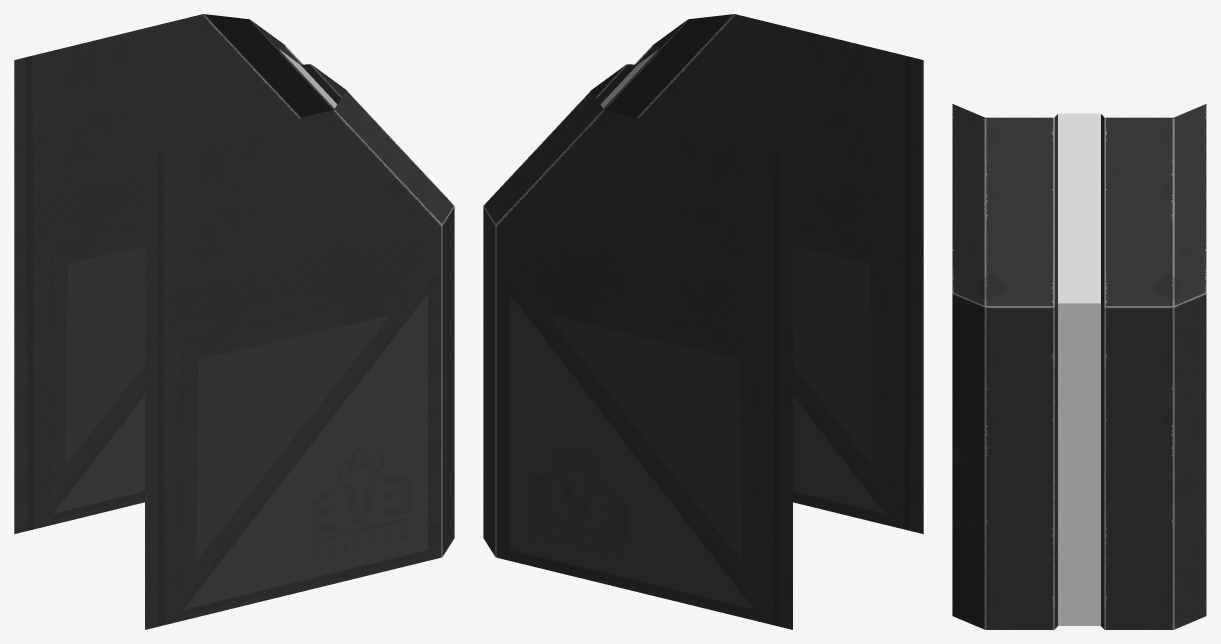
File: Grand_frame_bottom.fbx
The picture shows the model from 3 angles, left to right: view 1: azimuth 30°, elevation 25°; view 2: azimuth 150°, elevation 25°; view 3: azimuth 270°, elevation 25°; orthographic projection. The views are drawn at different scales.
Parts seen in each view (by area): view 1: Grand_frame_bottom007; view 2: Grand_frame_bottom007; view 3: Grand_frame_bottom007, light.
Part boxes in pixels (x1,y1,x2,y2): Grand_frame_bottom007: [14, 14, 454, 629]; Grand_frame_bottom007: [483, 14, 923, 629]; Grand_frame_bottom007: [952, 104, 1206, 629]; light: [1058, 113, 1100, 625].
Size of the model in its own units: 144 by 200 by 100.
